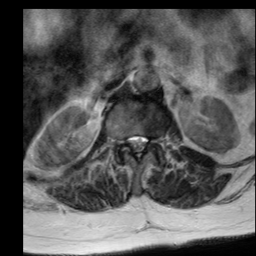CCS_normal: (134, 131, 141, 164)
LFS_stenosis: (148, 132, 154, 148)
LLS_normal: (141, 131, 148, 155)
RFS_stenosis: (120, 132, 127, 151)
RLS_stenosis: (127, 131, 134, 152)
